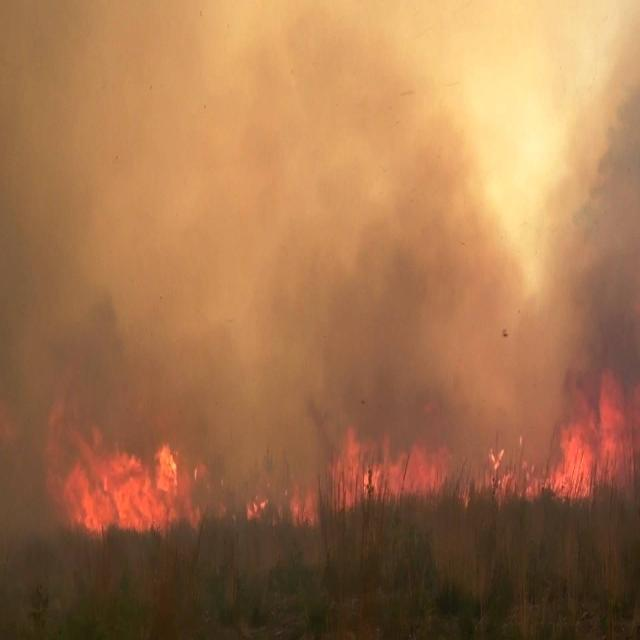Fire: (55, 402, 205, 542), (328, 434, 444, 516), (472, 438, 552, 500), (590, 388, 636, 489), (550, 432, 592, 500), (236, 482, 277, 530), (292, 483, 316, 526)
Smoke: (224, 42, 636, 372), (0, 29, 324, 380)
